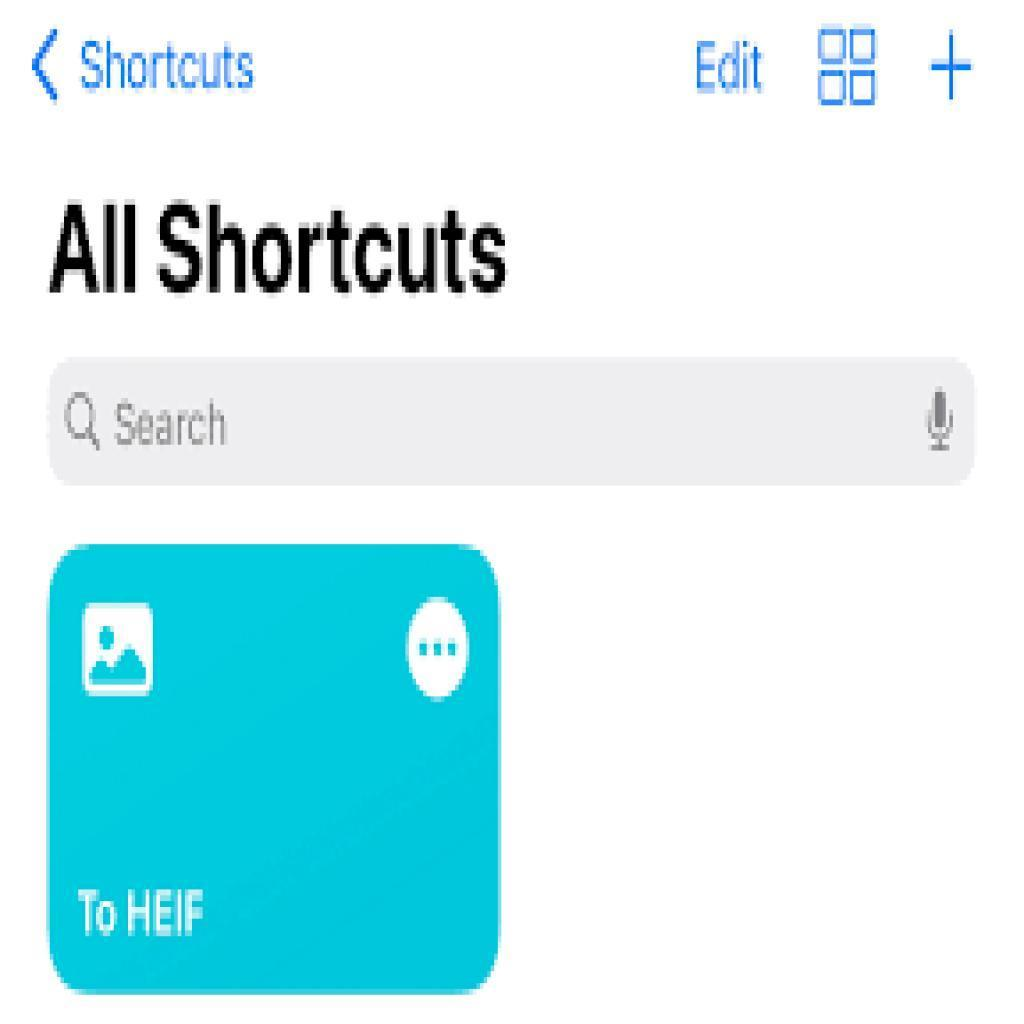icon: (77, 581, 167, 718), (402, 595, 477, 710), (807, 21, 890, 118), (63, 366, 105, 471), (924, 24, 979, 101), (30, 27, 65, 109)
input: (46, 361, 976, 486)
label: (78, 37, 260, 95), (691, 34, 771, 101)
